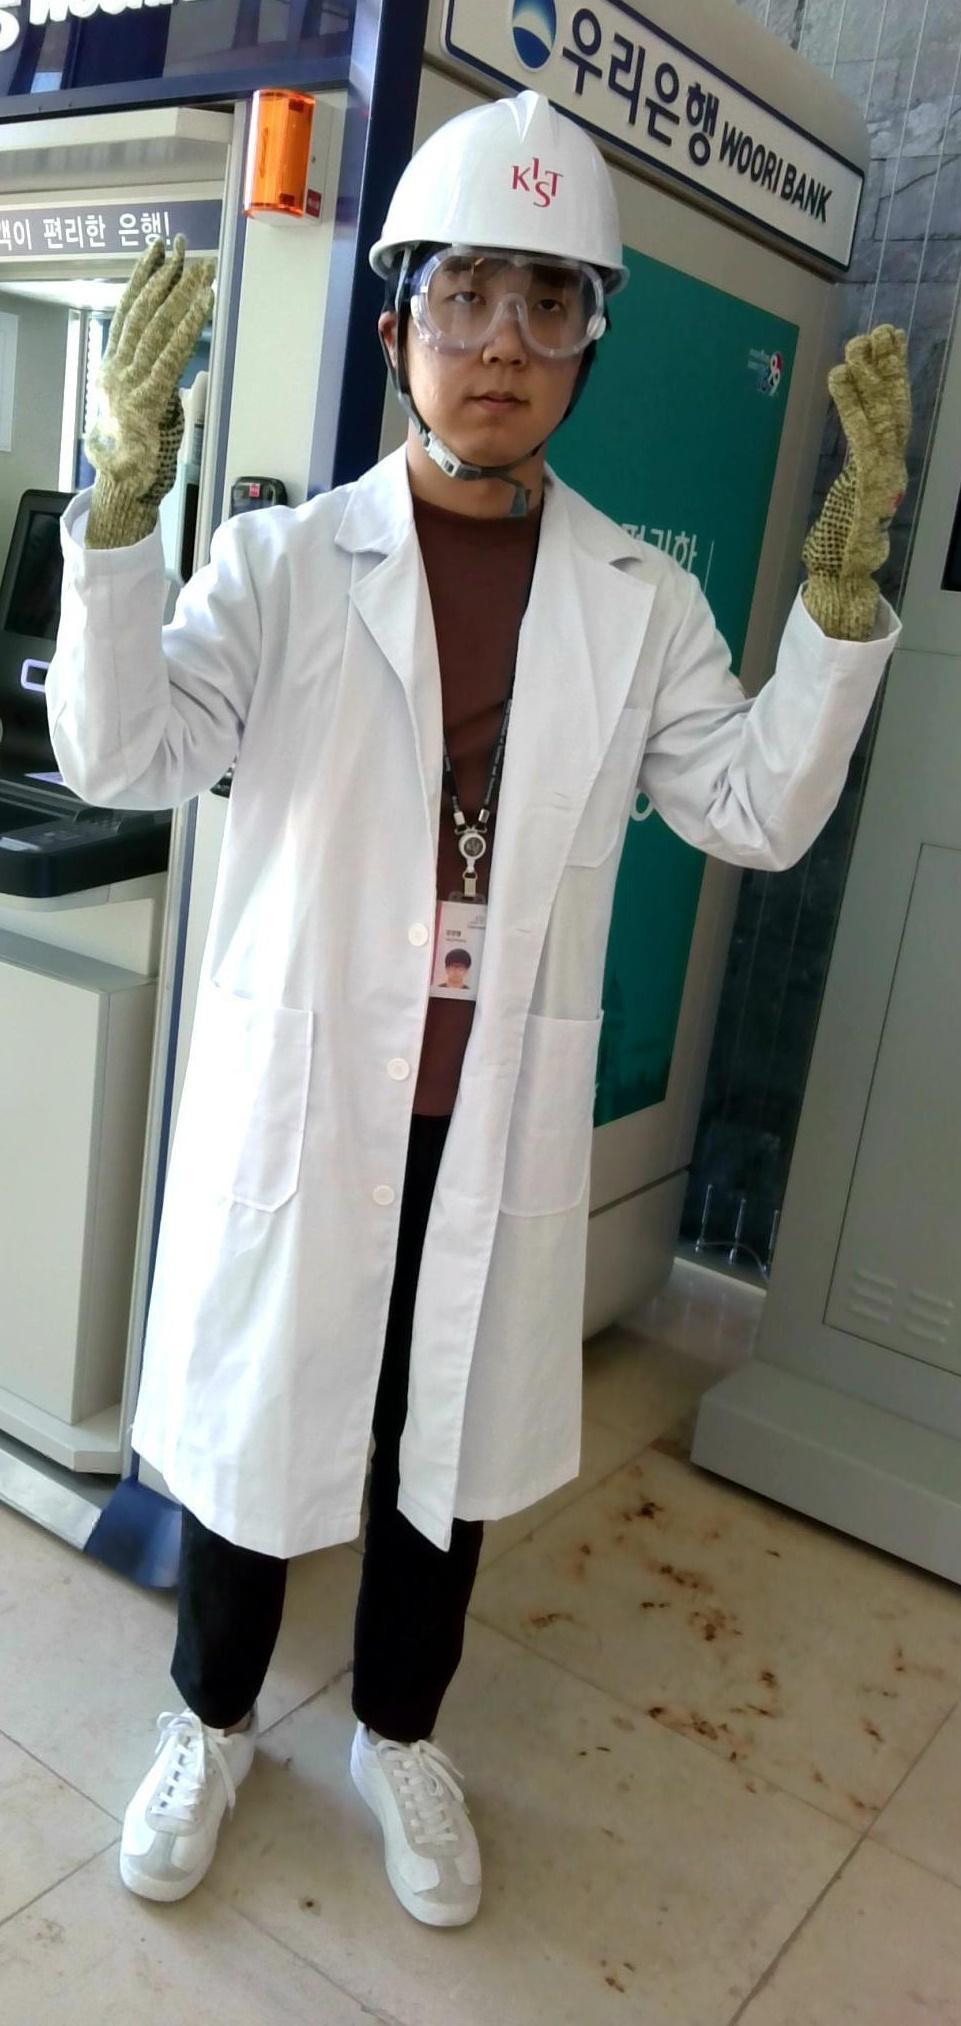lab_coat: (159, 581, 696, 1519)
